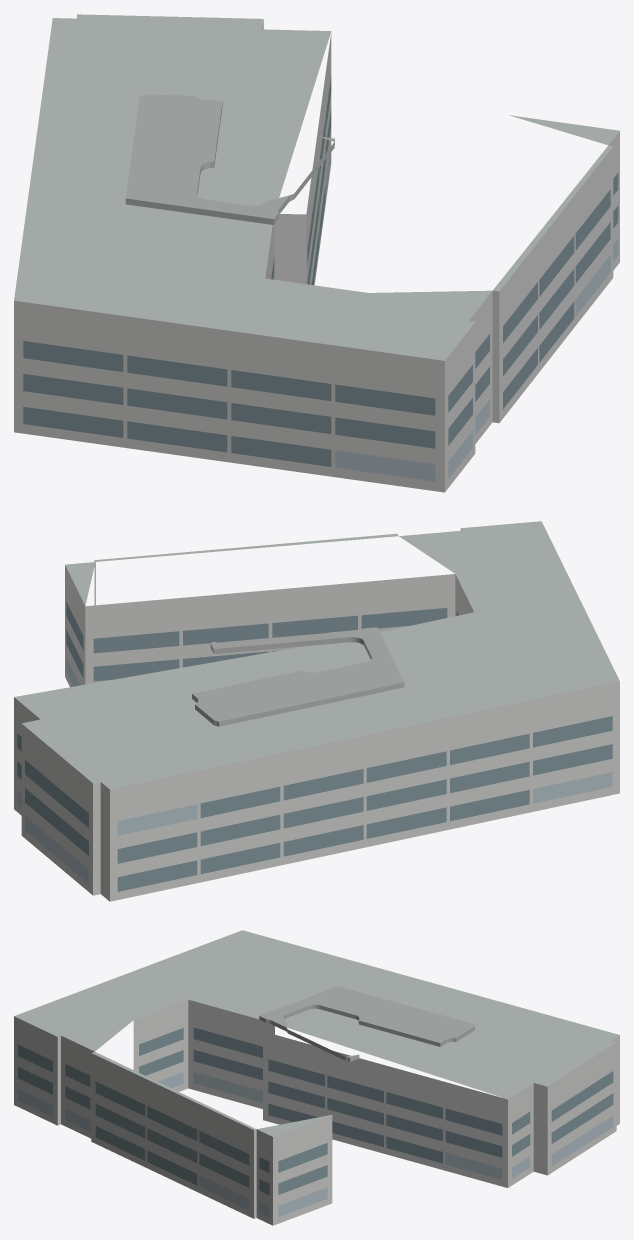
The model's file is apt-a10023348.glb.
3 renders of one model, top to bottom at view 1: azimuth 30°, elevation 25°; view 2: azimuth 150°, elevation 25°; view 3: azimuth 270°, elevation 25°, orthographic. The views are drawn at different scales.
Visible parts, largest first — view 1: apt-a10023348; view 2: apt-a10023348; view 3: apt-a10023348.
Part boxes in pixels (x1,y1,x2,y2): apt-a10023348: (14,14,619,492); apt-a10023348: (14,521,619,901); apt-a10023348: (14,930,619,1225).
Size of the model in its own units: 60.94 by 12.75 by 75.45.
